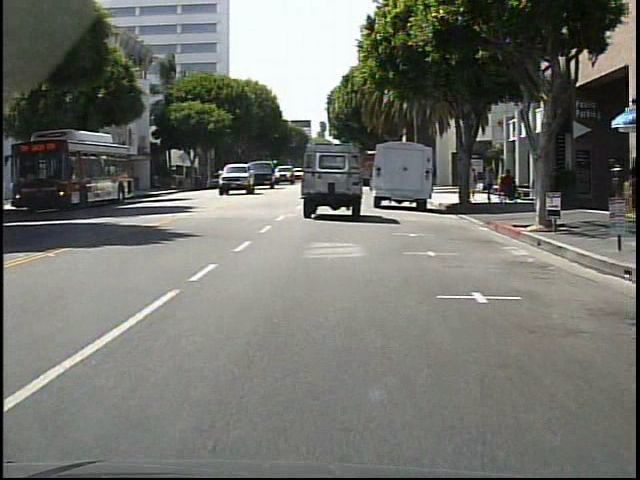person: (466, 160, 479, 203), (484, 165, 498, 204)
